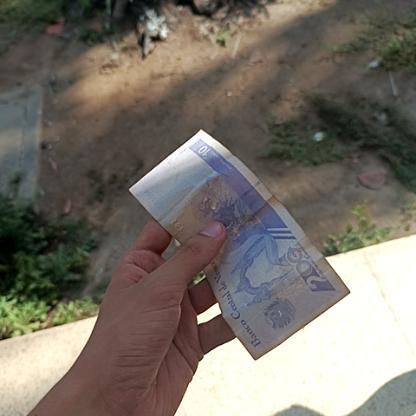ten-back-vef: (124, 129, 348, 362)
